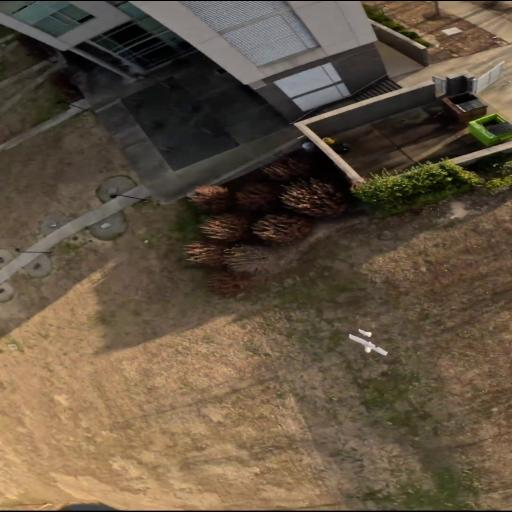uav: (342, 318, 396, 366)
